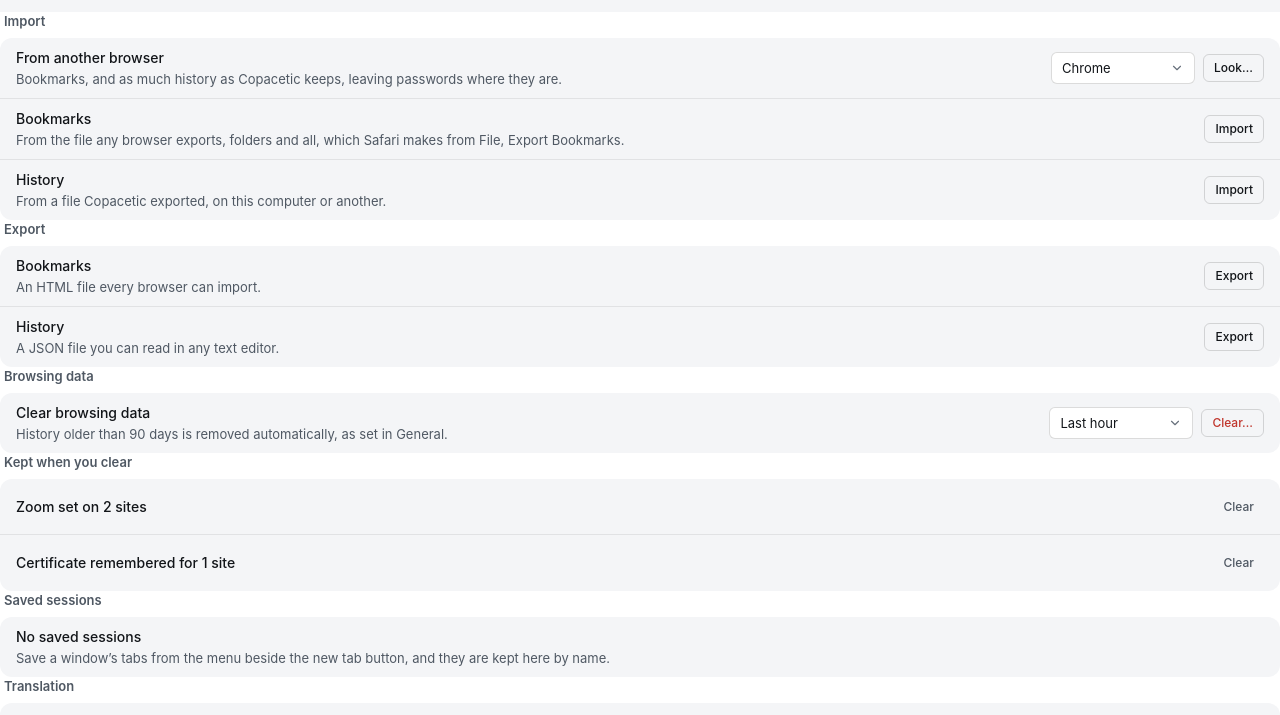
Test: importing from another browser › offers nothing to import when nothing was found
Click the button "Look…" at (1234,68), box 1203,54 -> 1264,82
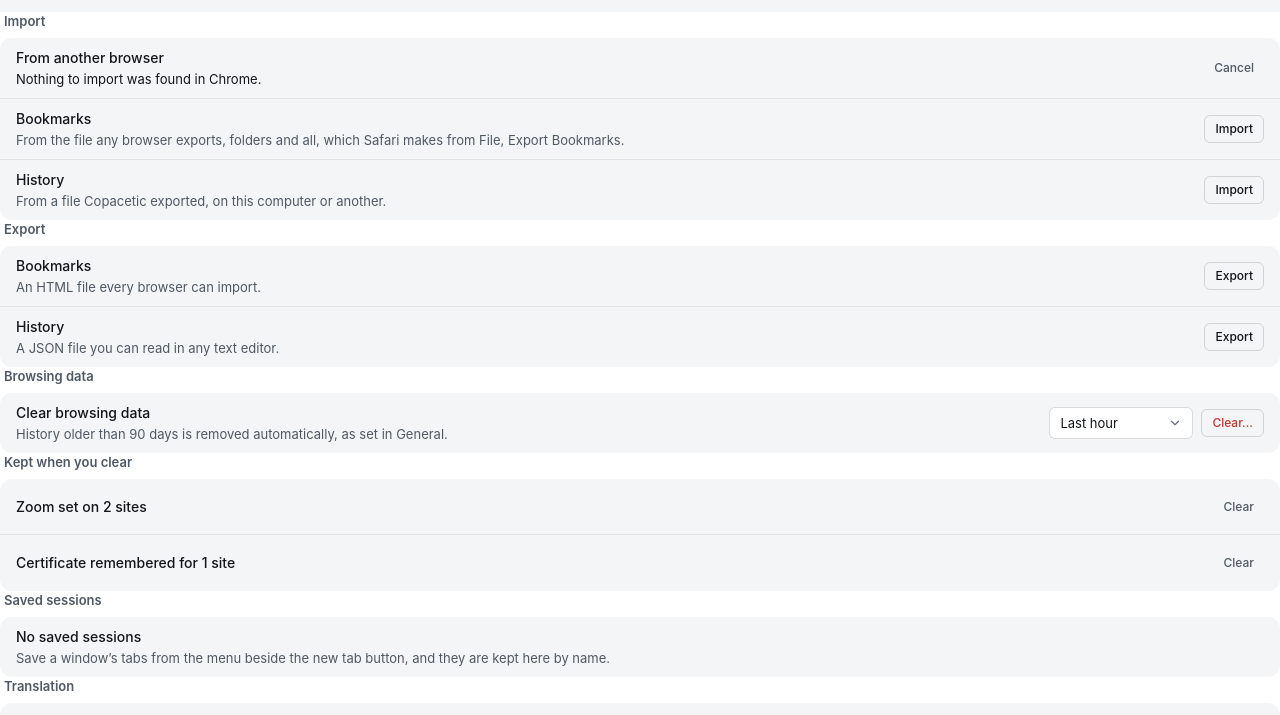
Expected: the number of buttons "Import" is 2, 1204,115 -> 1264,143; 1204,176 -> 1264,204
Expected: the text "Nothing to import was found in Chrome." is shown, 16,71 -> 261,87
